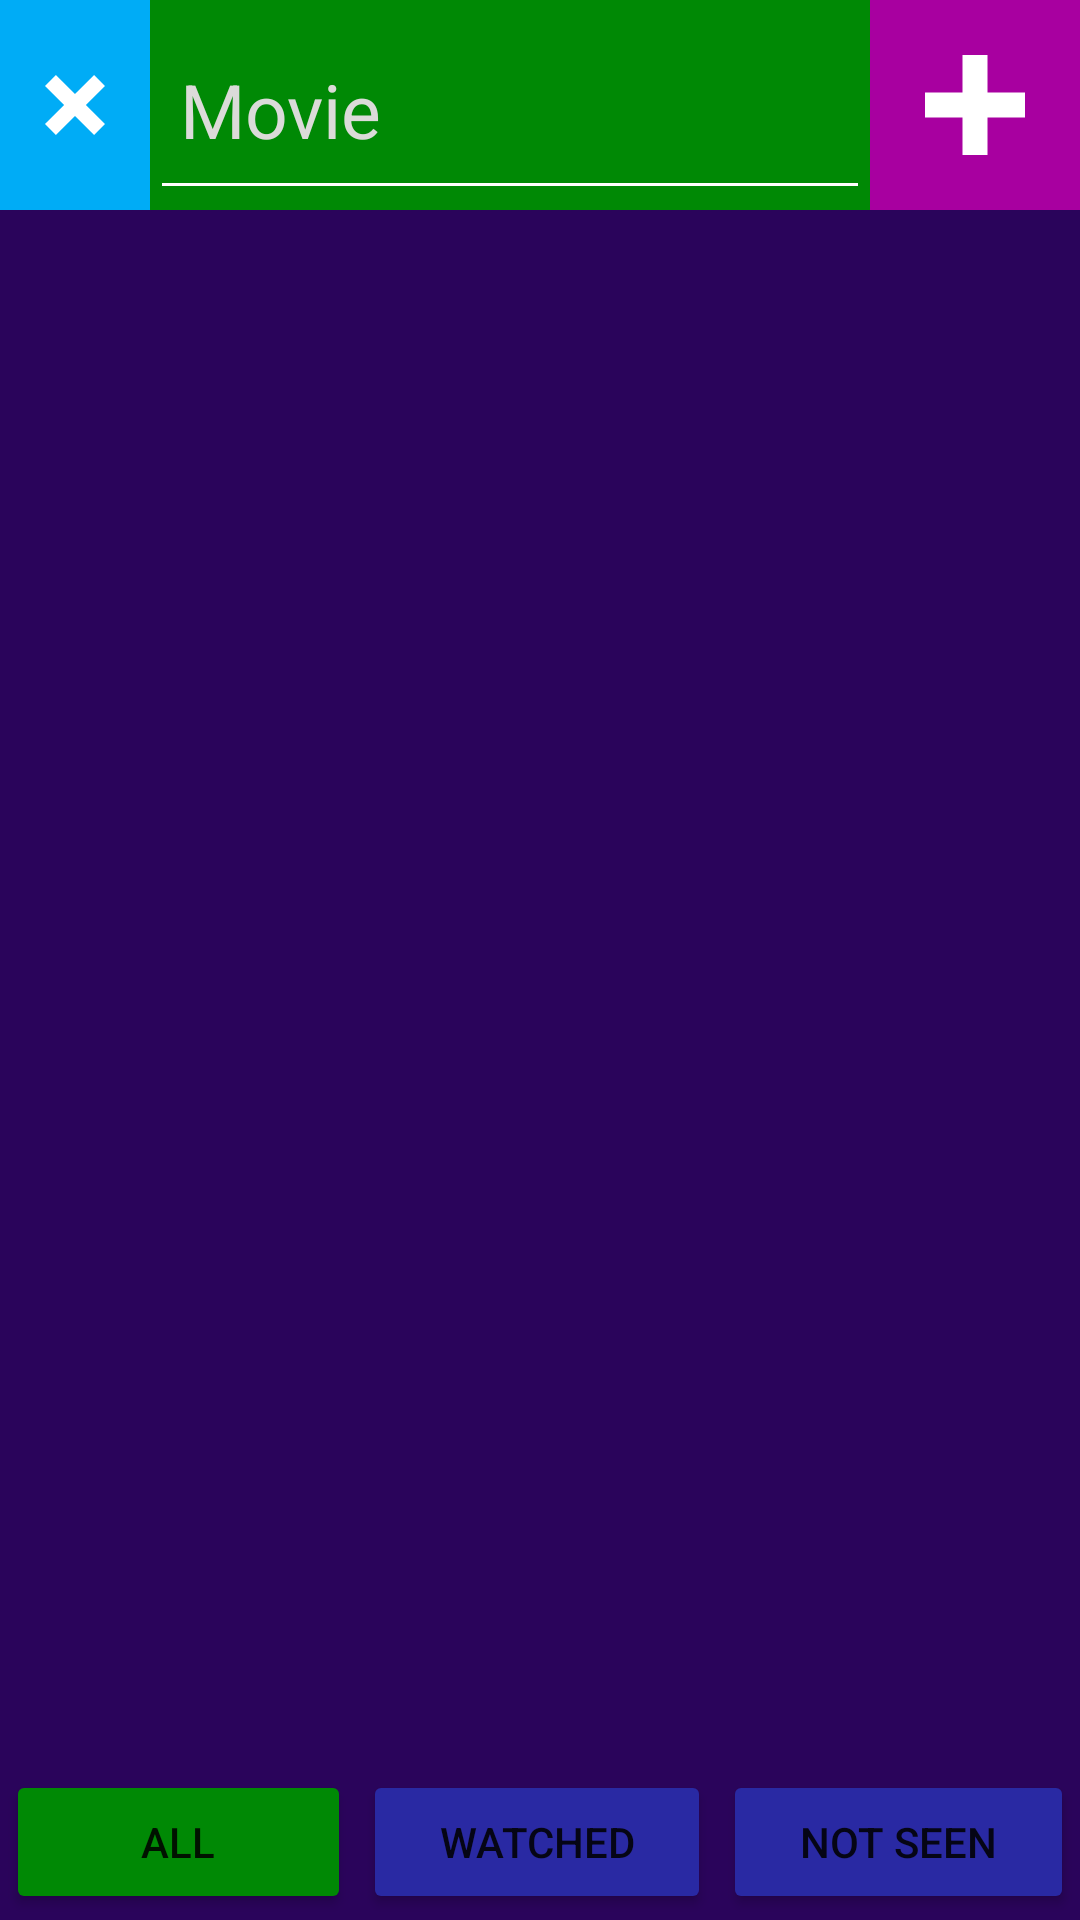

Icons on this 1080x1920 Android screen, each with the point to tap as (x=x, y=y):
clear: (x=75, y=105)
plus: (x=975, y=105)
